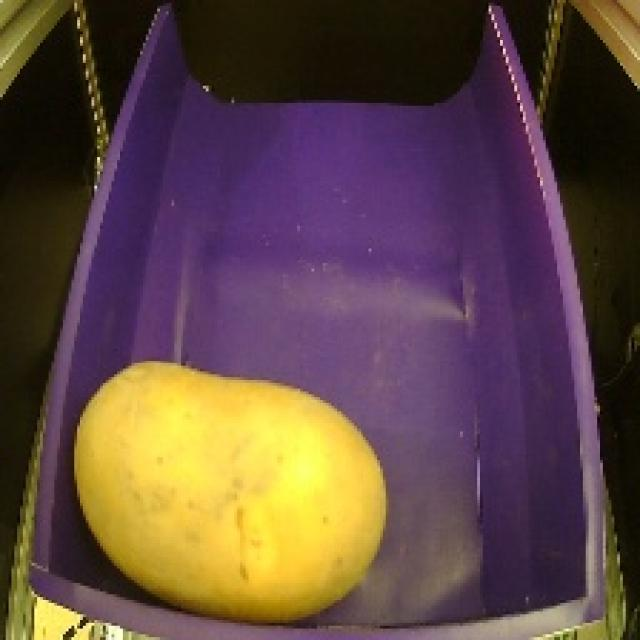full_potato: (58, 352, 404, 632)
